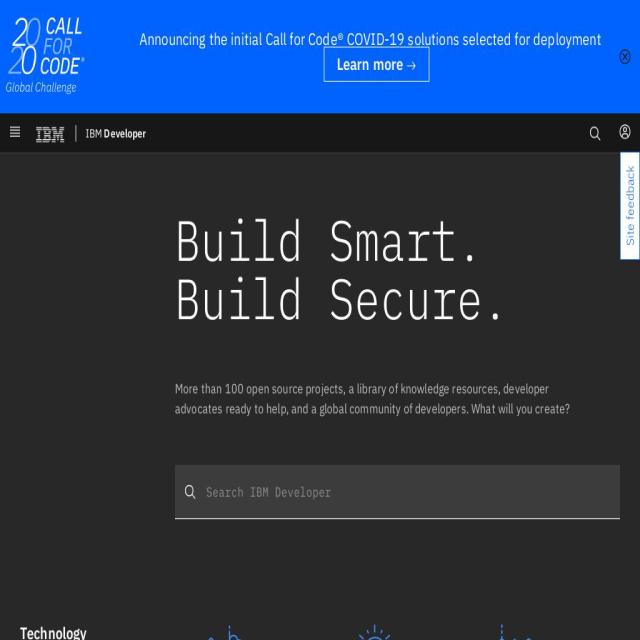button: (0, 0, 640, 113), (291, 622, 446, 640), (620, 152, 640, 260), (175, 622, 271, 640), (466, 622, 562, 640), (76, 124, 146, 142), (36, 119, 66, 148)
field: (205, 465, 620, 518)
heading: (329, 261, 508, 335), (175, 202, 329, 276), (328, 202, 482, 276), (175, 261, 329, 335), (20, 622, 112, 640)
image: (6, 18, 85, 94), (342, 622, 395, 640), (197, 622, 249, 640), (488, 622, 540, 640), (36, 118, 66, 144)
link: (104, 125, 147, 141)
text: (175, 378, 575, 418), (138, 28, 608, 50), (336, 54, 406, 74), (85, 125, 104, 141)
